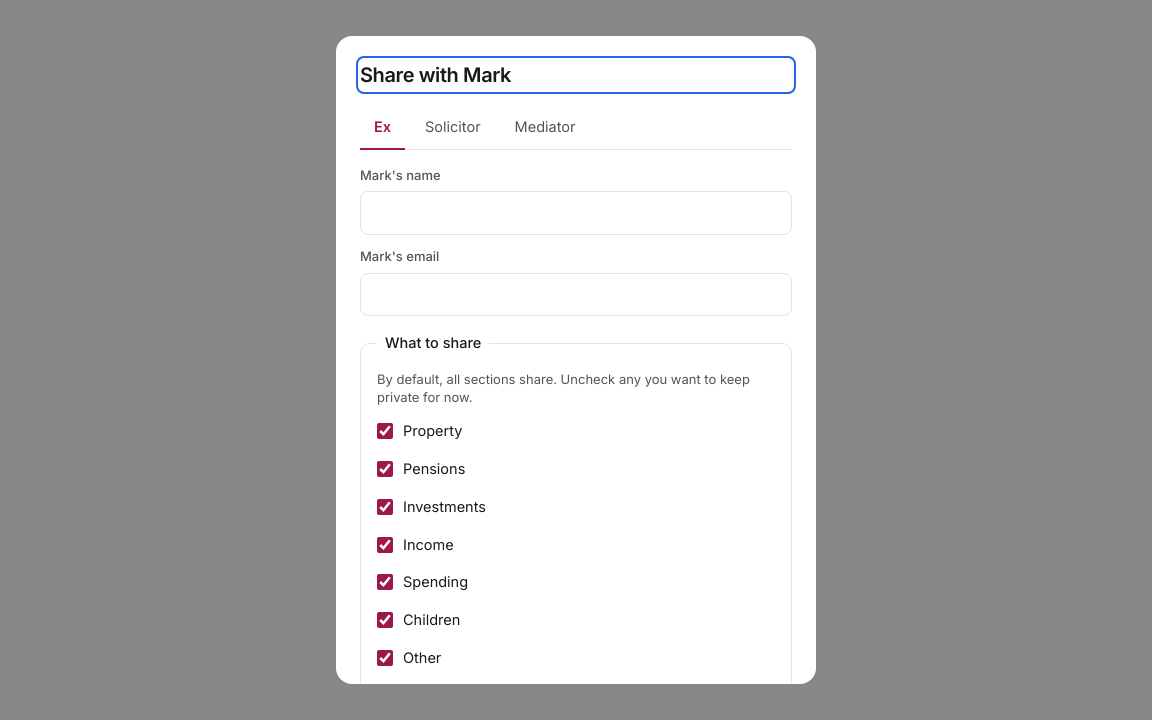
ShareModal › renders Solicitor panel with TBD placeholder (AC-3)
What coordinates should you click on to do the following:
click the tab "Solicitor"
I would click on:
 (453, 128)
Its box is [411, 106, 495, 150].
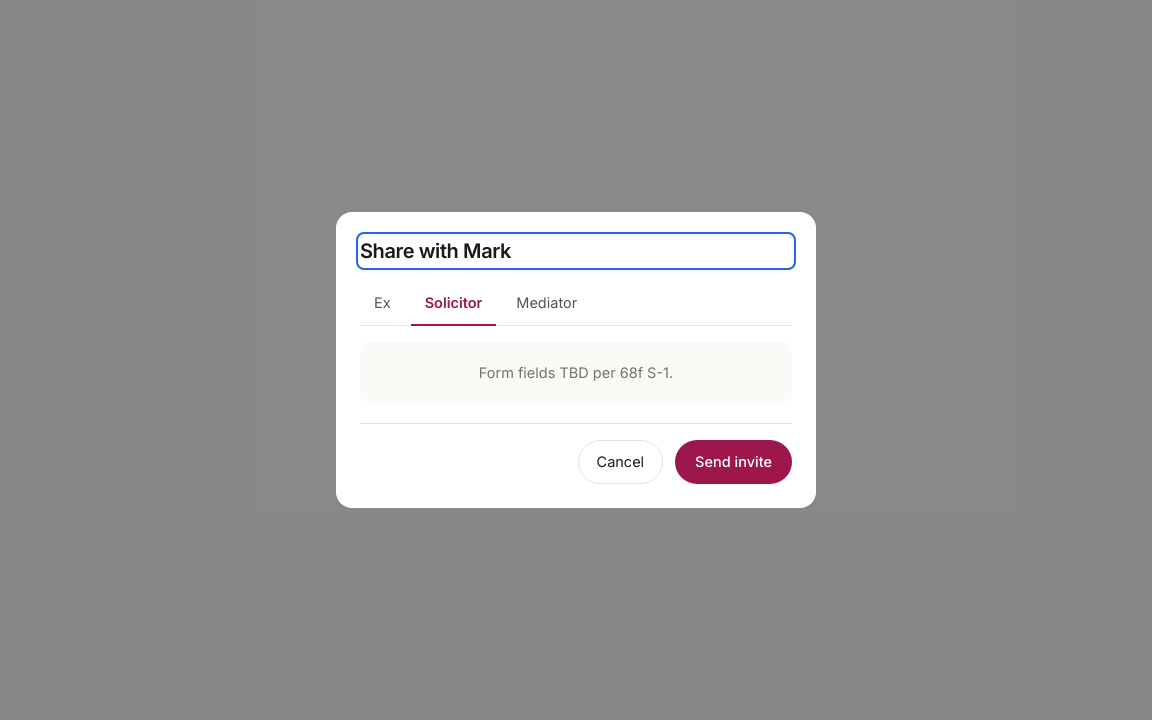
Check: the text "Form fields TBD per 68f S-1." is shown, box [360, 342, 792, 403]
